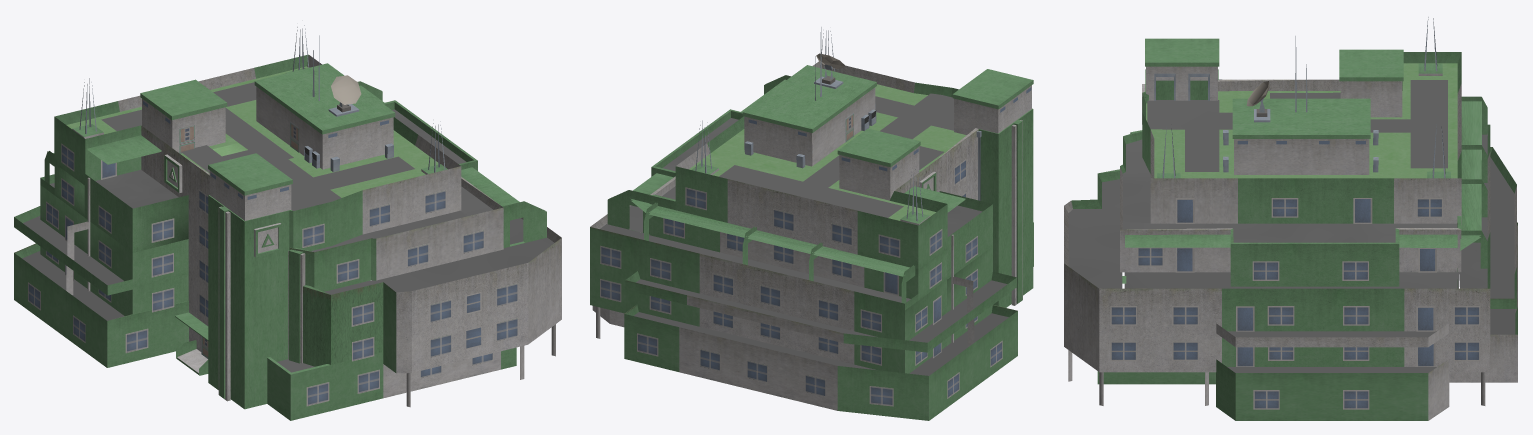
The model's file is ORB_4_S5_Detail_2.fbx.
3 renders of one model, left to right at view 1: azimuth 30°, elevation 25°; view 2: azimuth 150°, elevation 25°; view 3: azimuth 270°, elevation 25°, orthographic. The views are drawn at different scales.
Visible parts, largest first — view 1: ORB_4_S5_Detail_2; view 2: ORB_4_S5_Detail_2; view 3: ORB_4_S5_Detail_2.
Part boxes in pixels (x1=…): ORB_4_S5_Detail_2: x1=14, y1=25, x2=561, y2=420; ORB_4_S5_Detail_2: x1=590, y1=27, x2=1033, y2=420; ORB_4_S5_Detail_2: x1=1064, y1=17, x2=1517, y2=420.
Size of the model in its own units: 3010 by 2282 by 3024.
